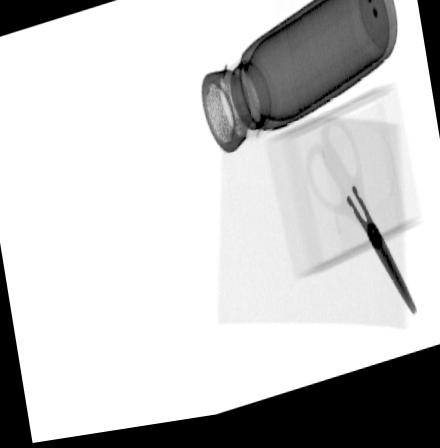Scissors: (304, 125, 416, 327)
